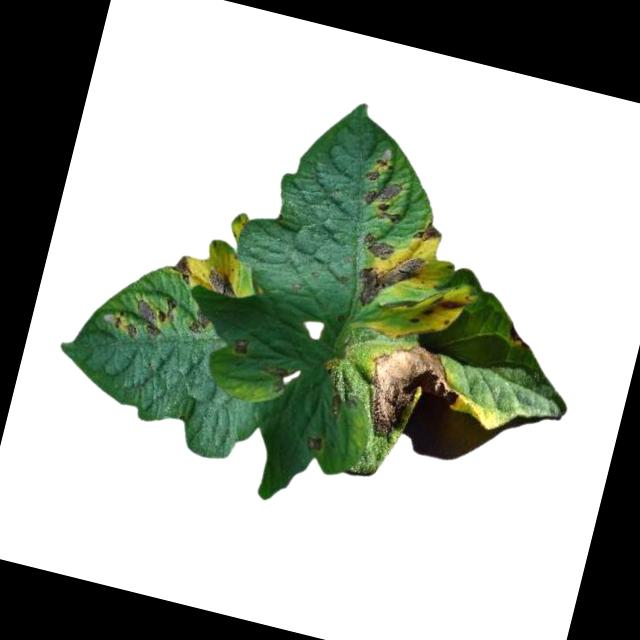Early_blight: (357, 333, 468, 450), (350, 241, 425, 319), (353, 145, 417, 226), (103, 282, 180, 348), (409, 286, 466, 336), (203, 265, 244, 299), (359, 230, 395, 261), (410, 216, 445, 246), (168, 253, 197, 285), (187, 307, 213, 335), (230, 331, 253, 358), (509, 318, 530, 345), (303, 430, 324, 452)
